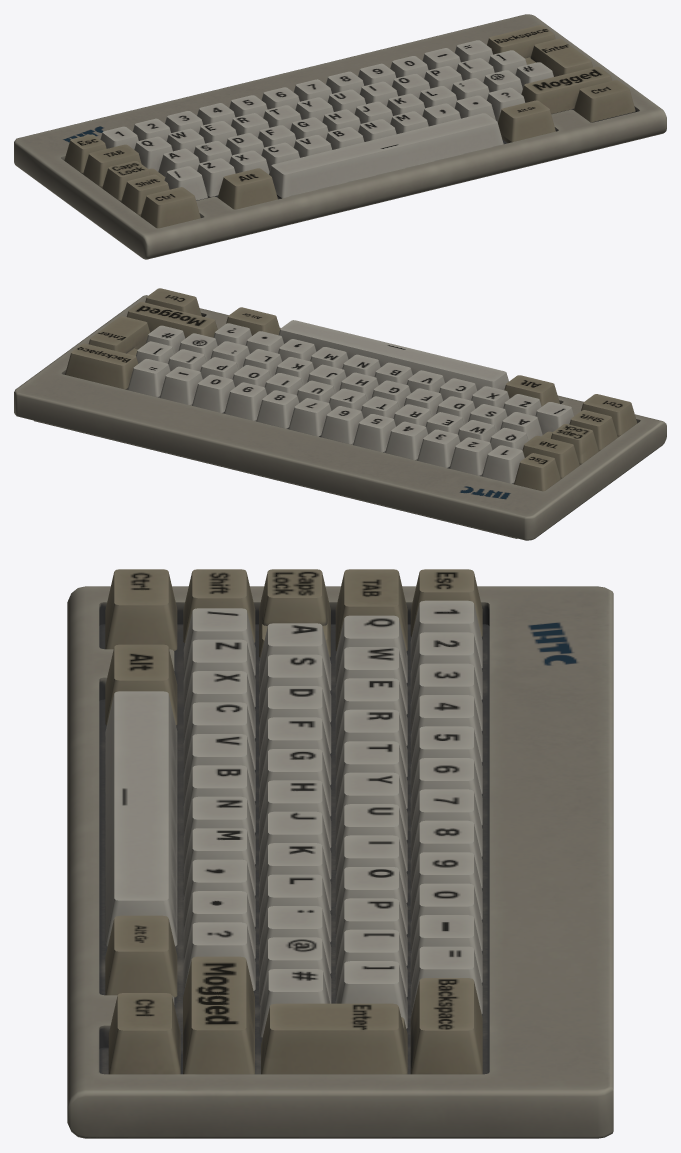
Rendered from M_Keyboard.fbx.
3 views of the same model, one above another, from view 1: azimuth 30°, elevation 25°; view 2: azimuth 150°, elevation 25°; view 3: azimuth 270°, elevation 25° (orthographic). The views are drawn at different scales.
Parts seen in each view (by area): view 1: Keyboard base, Key SPACE, Key SHIFT 2.0, Key CTRL 2.0, Key ALT GR, Key CTRL, Key ALT, Key ENTER, Key BACKSPACE, Key TAB, Key CAPS LOCK, Key SHIFT (+48 smaller); view 2: Keyboard base, Key SPACE, Key BACKSPACE, Key SHIFT 2.0, Key ENTER, Key `, Key TAB, Key CTRL, Key -, Key 2, Key 6, Key 0 (+48 smaller); view 3: Keyboard base, Key SPACE, Key ENTER, Key SHIFT 2.0, Key BACKSPACE, Key CTRL 2.0, Key ALT GR, Key CTRL, Key CAPS LOCK, Key ALT, Key TAB, Key SHIFT (+48 smaller).
Part boxes in pixels (bbox=[...]): Keyboard base: bbox=[14, 14, 666, 259]; Key SPACE: bbox=[269, 113, 503, 199]; Key SHIFT 2.0: bbox=[521, 66, 612, 114]; Key CTRL 2.0: bbox=[574, 80, 635, 122]; Key ALT GR: bbox=[497, 100, 555, 143]; Key CTRL: bbox=[140, 187, 200, 228]; Key ALT: bbox=[217, 168, 277, 209]; Key ENTER: bbox=[525, 38, 592, 76]; Key BACKSPACE: bbox=[487, 25, 555, 58]; Key TAB: bbox=[83, 144, 141, 187]; Key CAPS LOCK: bbox=[102, 161, 165, 201]; Key SHIFT: bbox=[121, 174, 169, 216]; Keyboard base: bbox=[14, 295, 666, 540]; Key SPACE: bbox=[279, 320, 508, 390]; Key BACKSPACE: bbox=[65, 343, 138, 389]; Key SHIFT 2.0: bbox=[126, 302, 217, 338]; Key ENTER: bbox=[88, 316, 150, 355]; Key `: bbox=[514, 453, 560, 491]; Key TAB: bbox=[522, 435, 579, 478]; Key CTRL: bbox=[581, 394, 637, 437]; Key -: bbox=[159, 366, 202, 405]; Key 2: bbox=[449, 437, 492, 476]; Key 6: bbox=[321, 406, 363, 444]; Key 0: bbox=[192, 374, 234, 413]; Keyboard base: bbox=[67, 586, 613, 1138]; Key SPACE: bbox=[105, 691, 177, 946]; Key ENTER: bbox=[261, 1003, 407, 1074]; Key SHIFT 2.0: bbox=[183, 956, 254, 1074]; Key BACKSPACE: bbox=[410, 978, 482, 1074]; Key CTRL 2.0: bbox=[108, 993, 180, 1074]; Key ALT GR: bbox=[105, 915, 177, 997]; Key CTRL: bbox=[105, 569, 177, 650]; Key CAPS LOCK: bbox=[259, 569, 330, 657]; Key ALT: bbox=[105, 644, 177, 725]; Key TAB: bbox=[335, 569, 407, 651]; Key SHIFT: bbox=[183, 569, 255, 643].
Bounding box in the file's own units: 45.66 × 3.92 × 20.76.
